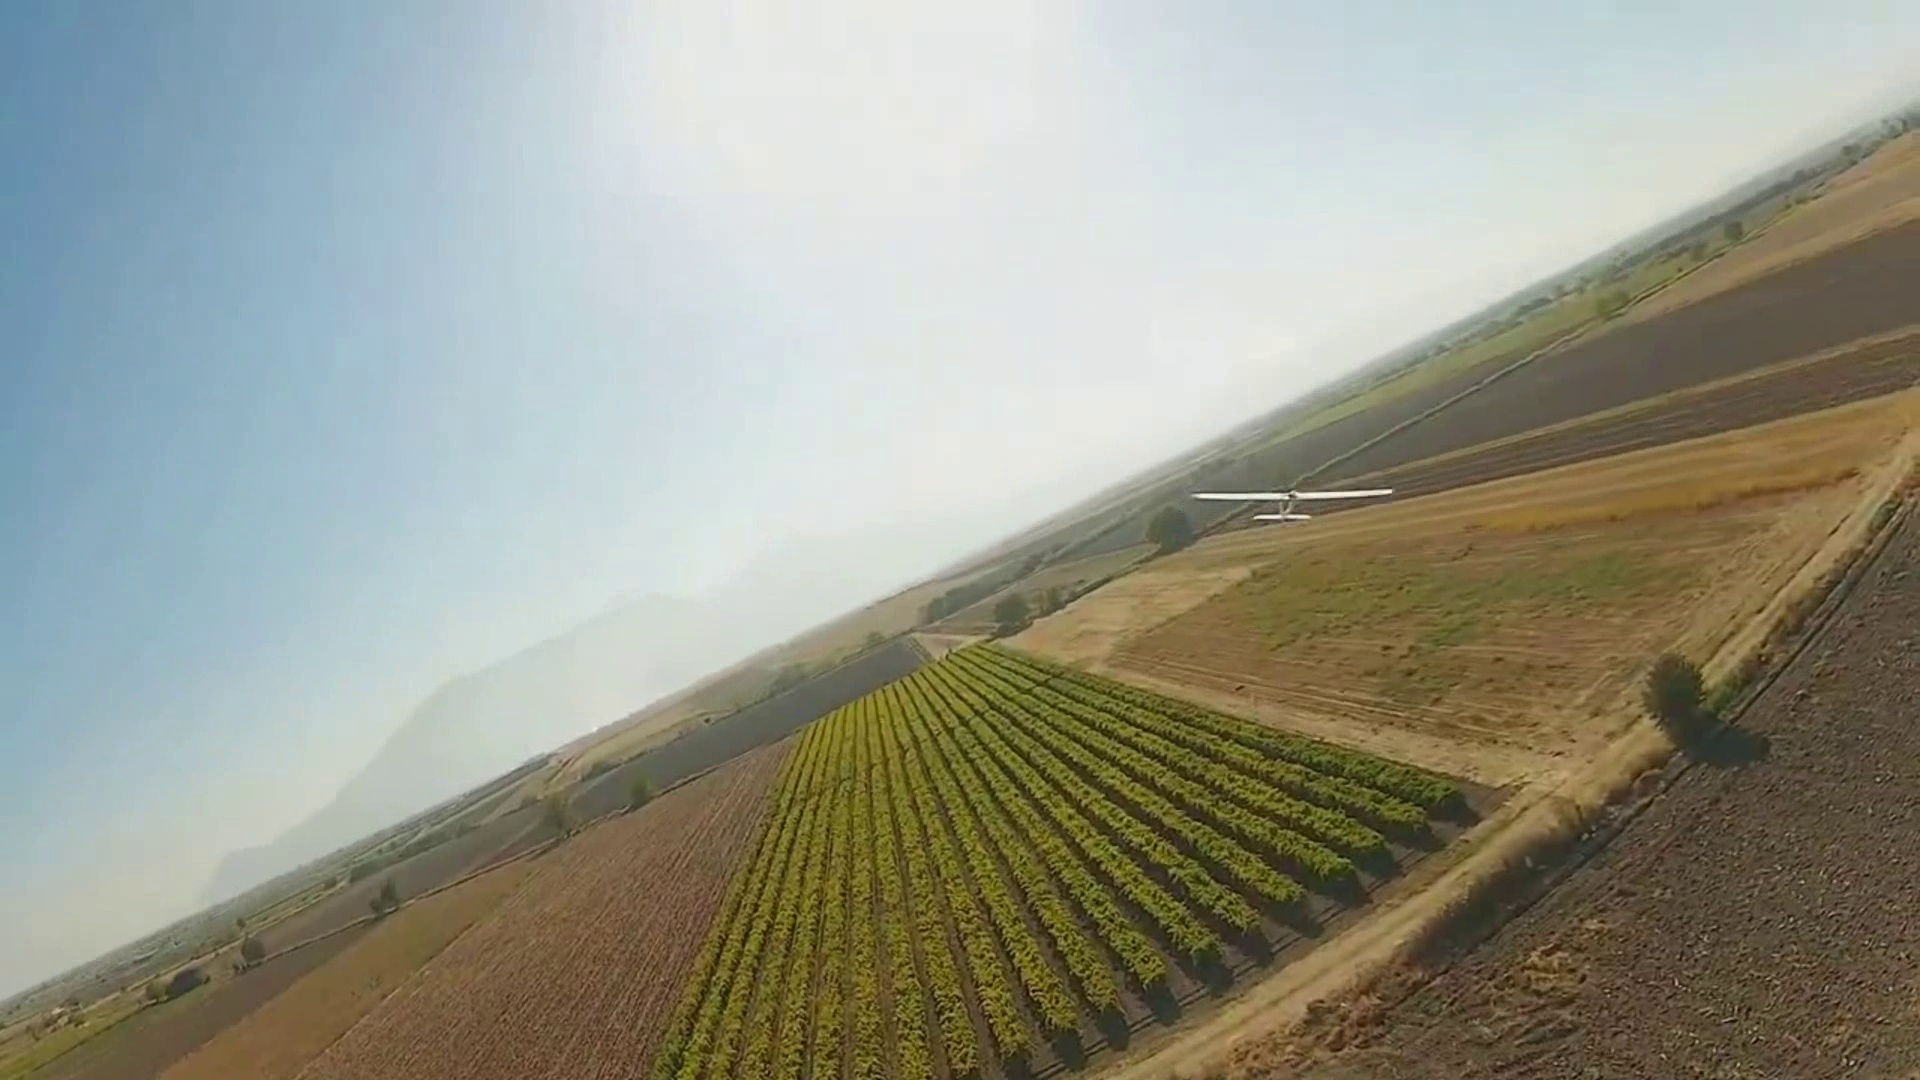airplane: (18, 78, 1920, 1048)
